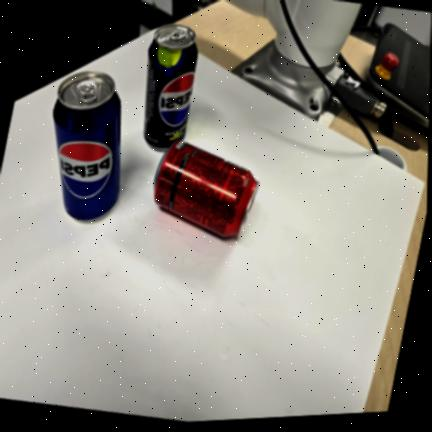can_coke_zero: (154, 141, 259, 236)
can_pepsi: (53, 71, 121, 221)
can_pepsi_zero: (144, 24, 198, 149)
